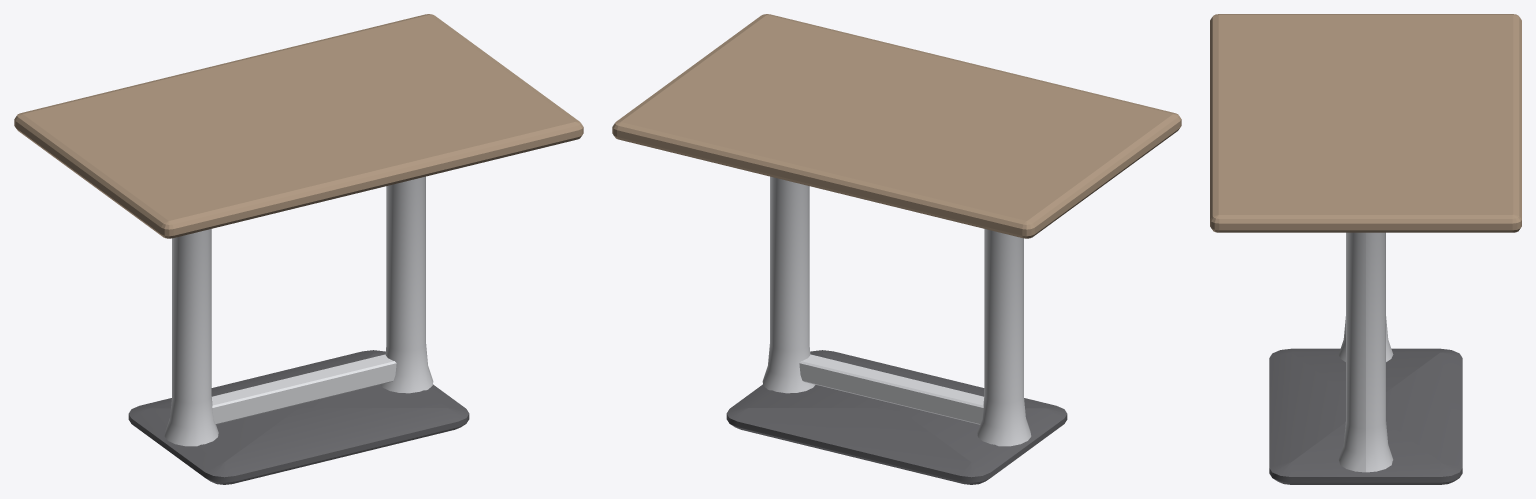
Rendered from fast-food-and-drive-thru-pedestal-table-4-seat-7a28aeb0__16216.glb.
3 views of the same model, side by side, from view 1: azimuth 30°, elevation 25°; view 2: azimuth 150°, elevation 25°; view 3: azimuth 270°, elevation 25° (orthographic).
Visible parts, largest first — view 1: pedestal-table-4-seat; view 2: pedestal-table-4-seat; view 3: pedestal-table-4-seat.
Part boxes in pixels (bbox=[...]): pedestal-table-4-seat: bbox=[14, 14, 583, 484]; pedestal-table-4-seat: bbox=[612, 14, 1181, 484]; pedestal-table-4-seat: bbox=[1210, 14, 1521, 484].
Size of the model in its own units: 1.1 by 0.764 by 0.6999.
